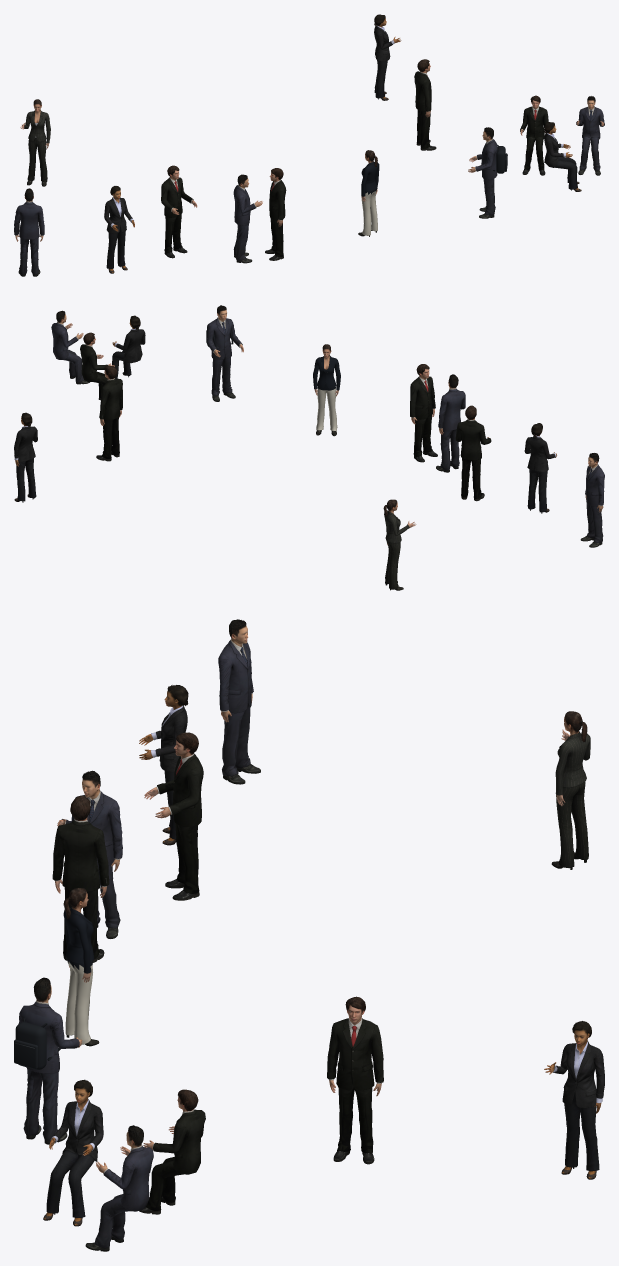
Rendered from projection-visitors-v10.glb.
3 renders of one model, top to bottom at view 1: azimuth 30°, elevation 25°; view 2: azimuth 150°, elevation 25°; view 3: azimuth 270°, elevation 25°, orthographic. The views are drawn at different scales.
Parts seen in each view (by area): view 1: Projection visitor | Business_Male_02 | idle part 0, Projection visitor | Business_Male_01 | operator part 0, Projection visitor | Business_Female_01 | operator part 0, Projection visitor | Business_Female_04 | talk part 0, Projection visitor | Business_Male_01 | projection-seated pa, Projection visitor | Business_Male_02 | projection-seated pa, Projection visitor | Business_Male_01 | idle part 0.001, Projection visitor | Business_Male_02 | operator part 0, Projection visitor | Business_Male_01 | idle part 0, Projection visitor | Business_Male_02 | talk part 0, Projection visitor | Business_Female_04 | idle part 0, Projection visitor | Business_Female_01 | projection-seated  (+1 smaller); view 2: Projection visitor | Business_Male_02 | operator part 0, Projection visitor | Business_Male_01 | idle part 0, Projection visitor | Business_Male_01 | operator part 0, Projection visitor | Business_Male_02 | talk part 0, Projection visitor | Business_Male_01 | idle part 0.001, Projection visitor | Business_Female_04 | idle part 0, Projection visitor | Business_Female_01 | operator part 0, Projection visitor | Business_Female_01 | talk part 0, Projection visitor | Business_Male_02 | idle part 0, Projection visitor | Business_Female_04 | talk part 0, Projection visitor | Business_Male_02 | projection-seated pa, Projection visitor | Business_Female_01 | projection-seated  (+1 smaller); view 3: Projection visitor | Business_Male_01 | idle part 0.001, Projection visitor | Business_Female_01 | talk part 0, Projection visitor | Business_Male_01 | idle part 0, Projection visitor | Business_Male_01 | operator part 0, Projection visitor | Business_Male_02 | idle part 0, Projection visitor | Business_Female_01 | projection-seated , Projection visitor | Business_Female_04 | talk part 0, Projection visitor | Business_Male_02 | operator part 0, Projection visitor | Business_Female_04 | idle part 0, Projection visitor | Business_Male_02 | projection-seated pa, Projection visitor | Business_Male_01 | projection-seated pa, Projection visitor | Business_Male_02 | talk part 0 (+2 smaller).
Part boxes in pixels (x1,y1,x2,y2): Projection visitor | Business_Male_02 | idle part 0: (14,188,44,276); Projection visitor | Business_Male_01 | operator part 0: (161,165,197,258); Projection visitor | Business_Female_01 | operator part 0: (104,186,134,273); Projection visitor | Business_Female_04 | talk part 0: (20,99,50,186); Projection visitor | Business_Male_01 | projection-seated pa: (520,95,548,175); Projection visitor | Business_Male_02 | projection-seated pa: (576,96,604,175); Projection visitor | Business_Male_01 | idle part 0.001: (414,59,436,150); Projection visitor | Business_Male_02 | operator part 0: (468,127,497,218); Projection visitor | Business_Male_01 | idle part 0: (265,168,286,260); Projection visitor | Business_Male_02 | talk part 0: (233,174,262,263); Projection visitor | Business_Female_04 | idle part 0: (358,150,379,236); Projection visitor | Business_Female_01 | projection-seated : (544,122,581,191); Projection visitor | Business_Male_02 | operator part 0: (207,305,243,401); Projection visitor | Business_Male_01 | idle part 0: (410,364,437,462); Projection visitor | Business_Male_01 | operator part 0: (455,405,491,501); Projection visitor | Business_Male_02 | talk part 0: (436,374,465,472); Projection visitor | Business_Male_01 | idle part 0.001: (96,365,122,461); Projection visitor | Business_Female_04 | idle part 0: (313,344,340,436); Projection visitor | Business_Female_01 | operator part 0: (524,423,556,513); Projection visitor | Business_Female_01 | talk part 0: (14,412,37,502); Projection visitor | Business_Male_02 | idle part 0: (580,453,604,547); Projection visitor | Business_Female_04 | talk part 0: (383,499,416,590); Projection visitor | Business_Male_02 | projection-seated pa: (51,310,89,384); Projection visitor | Business_Female_01 | projection-seated : (112,315,145,378); Projection visitor | Business_Male_01 | idle part 0.001: (327,996,383,1164); Projection visitor | Business_Female_01 | talk part 0: (544,1021,604,1179); Projection visitor | Business_Male_01 | idle part 0: (52,795,109,962); Projection visitor | Business_Male_01 | operator part 0: (144,732,203,900); Projection visitor | Business_Male_02 | idle part 0: (218,619,260,784); Projection visitor | Business_Female_01 | projection-seated : (43,1079,103,1226); Projection visitor | Business_Female_04 | talk part 0: (551,711,590,869); Projection visitor | Business_Male_02 | operator part 0: (18,977,82,1144); Projection visitor | Business_Female_04 | idle part 0: (63,888,99,1046); Projection visitor | Business_Male_02 | projection-seated pa: (85,1125,153,1251); Projection visitor | Business_Male_01 | projection-seated pa: (139,1089,205,1214); Projection visitor | Business_Male_02 | talk part 0: (57,770,122,938).
Bounding box in the file's own units: 11.8 × 1.78 × 5.93.
16 materials, 12 textured.
